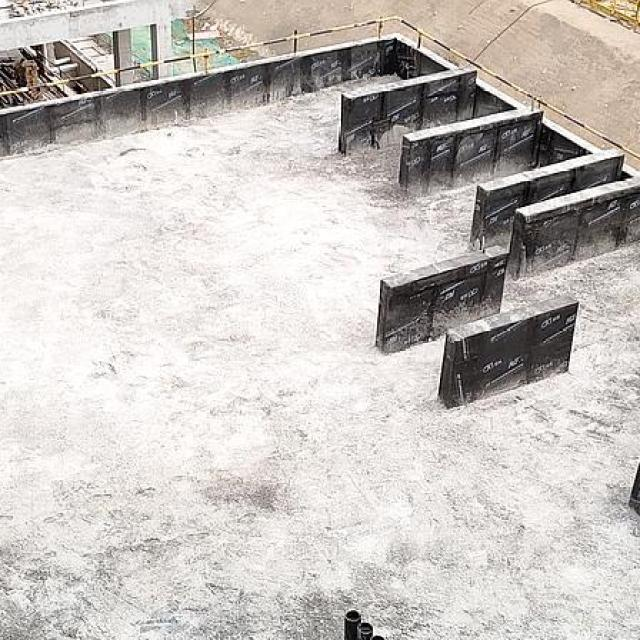edge_guardrail: (0, 14, 640, 160)
